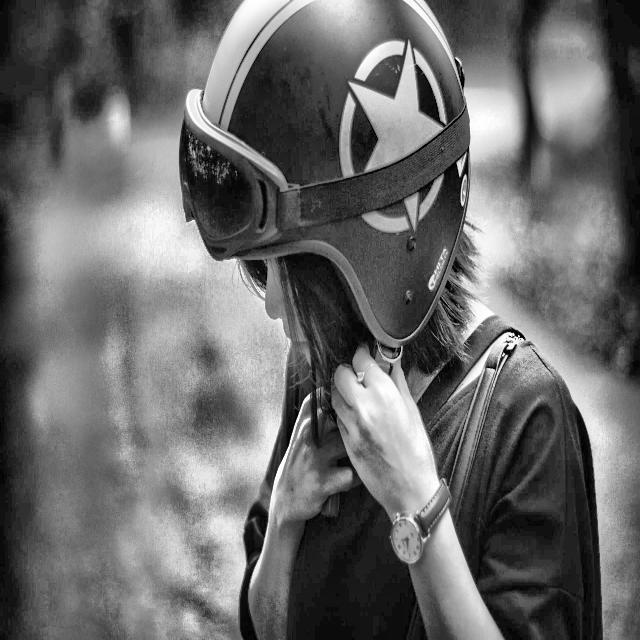Helmet: (174, 0, 487, 394)
